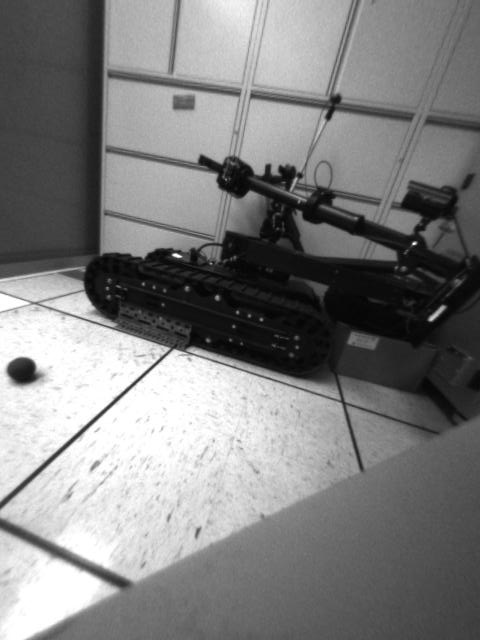dogtoy: (3, 350, 42, 392)
